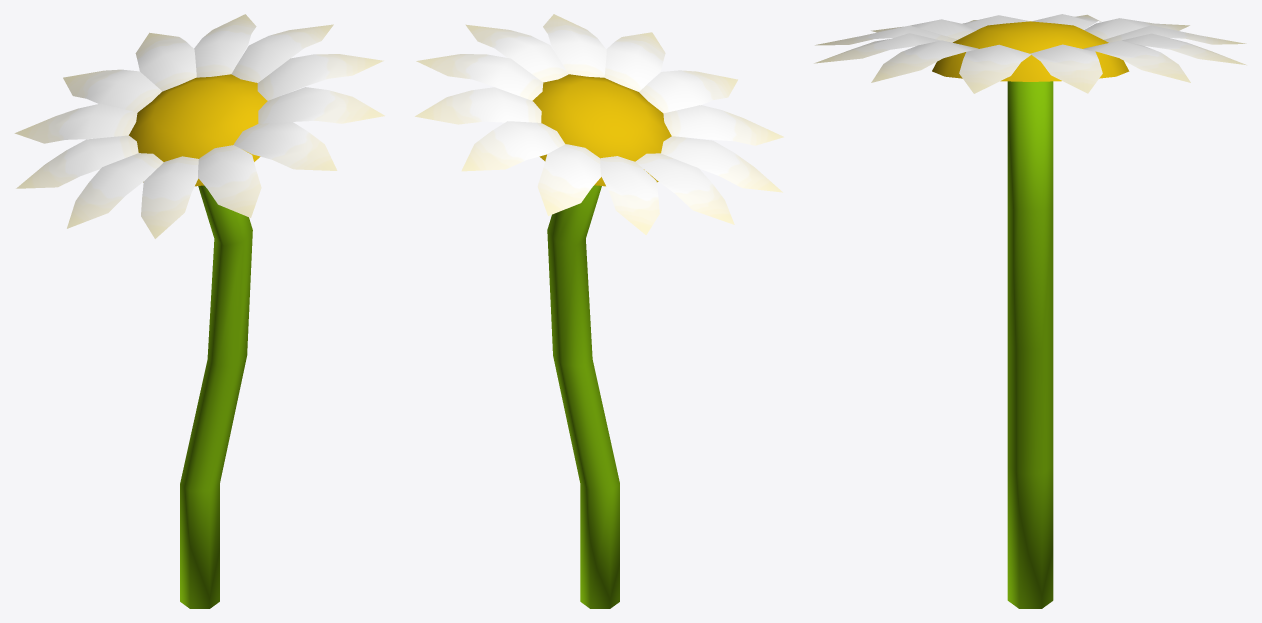
File: flower_white.glb
The picture shows the model from 3 angles, left to right: view 1: azimuth 30°, elevation 25°; view 2: azimuth 150°, elevation 25°; view 3: azimuth 270°, elevation 25°; orthographic projection. The views are drawn at different scales.
Parts seen in each view (by area): view 1: Cylinder.001; view 2: Cylinder.001; view 3: Cylinder.001.
Boxes of the visible parts, x1,y1,x2,y2 form: Cylinder.001: [14, 14, 384, 608]; Cylinder.001: [415, 14, 783, 608]; Cylinder.001: [814, 14, 1246, 608].
Bounding box in the file's own units: 1.98 × 3.11 × 2.03.
1 material, 1 textured.
